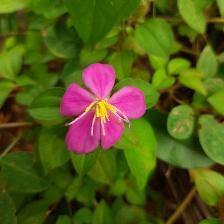malabar melastome: (60, 63, 148, 159)
